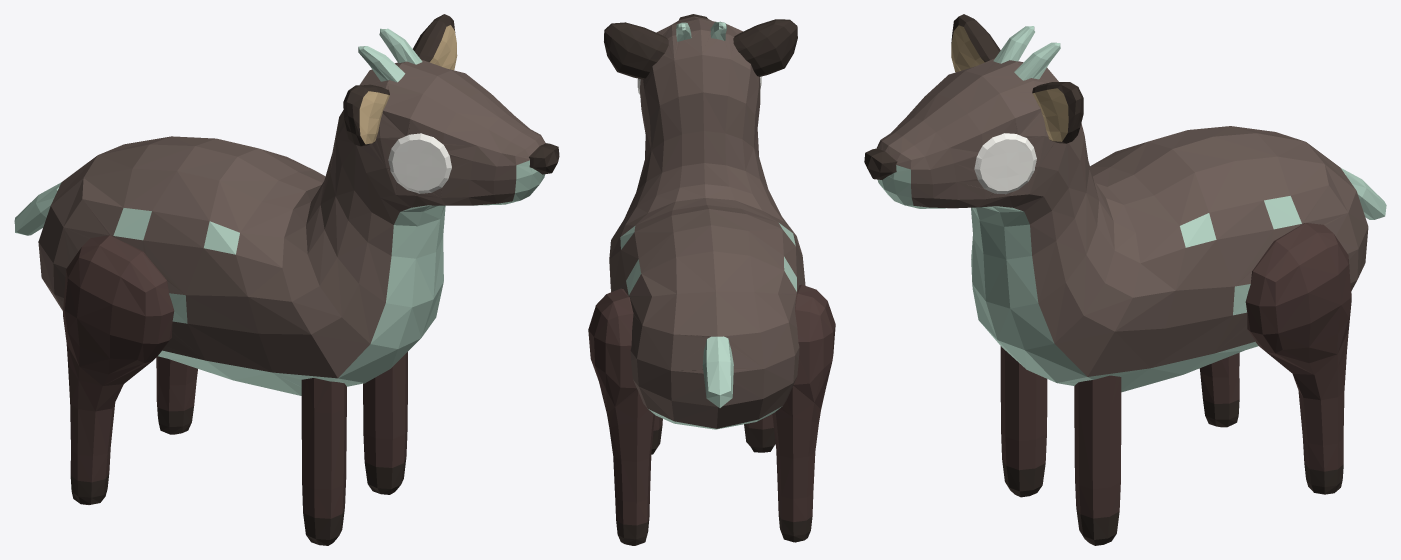
File: swdeer.glb
3 renders of one model, left to right at view 1: azimuth 30°, elevation 25°; view 2: azimuth 150°, elevation 25°; view 3: azimuth 270°, elevation 25°, orthographic. The views are drawn at different scales.
Visible parts, largest first — view 1: Mesh_14; view 2: Mesh_14; view 3: Mesh_14.
Part boxes in pixels (x1,y1,x2,y2): Mesh_14: (14, 14, 559, 545); Mesh_14: (588, 14, 835, 545); Mesh_14: (864, 14, 1386, 545).
Size of the model in its own units: 0.7528 by 1.06 by 1.02.
Materials: 1 (1 with a texture image).
